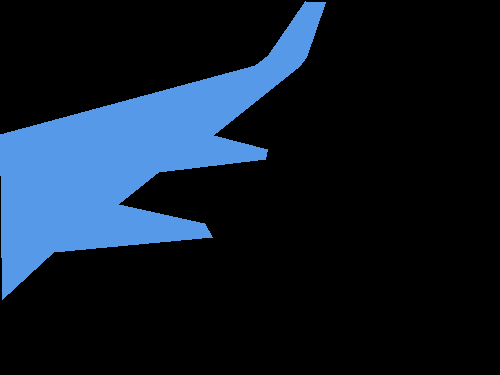Airplane: (0, 1, 325, 300)
